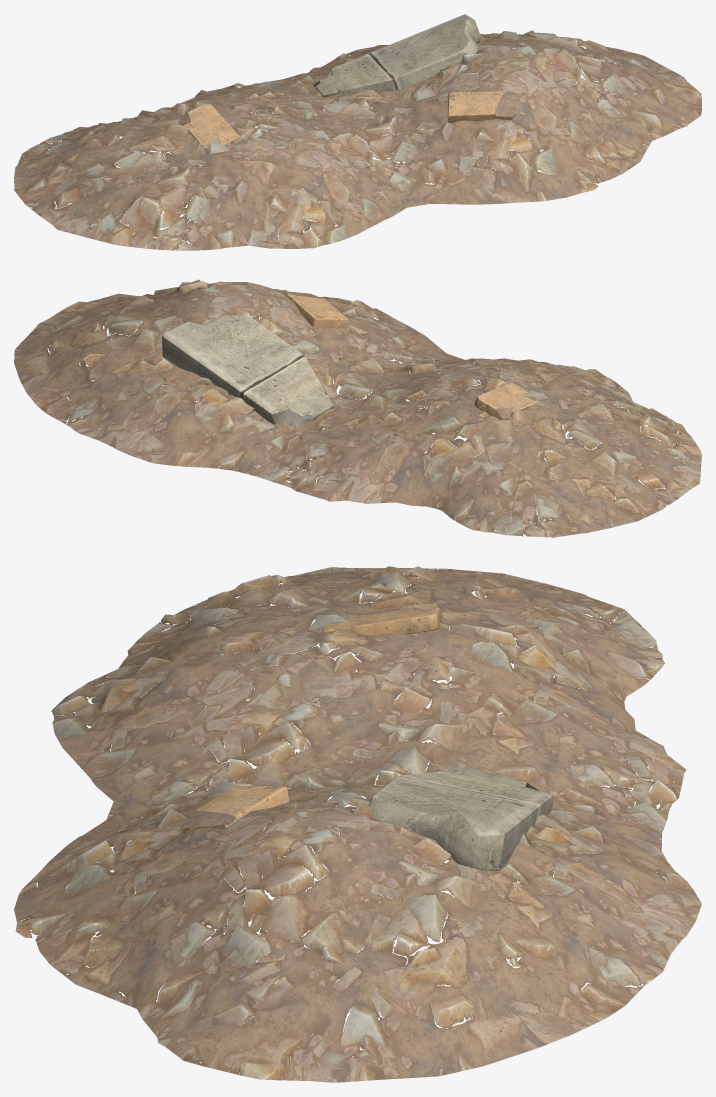
3 renders of one model, top to bottom at view 1: azimuth 30°, elevation 25°; view 2: azimuth 150°, elevation 25°; view 3: azimuth 270°, elevation 25°, orthographic. The views are drawn at different scales.
Visible parts, largest first — view 1: SM_Magic_Institute_Rubble_01v2_LOD0; view 2: SM_Magic_Institute_Rubble_01v2_LOD0; view 3: SM_Magic_Institute_Rubble_01v2_LOD0.
Part boxes in pixels (x1,y1,x2,y2): SM_Magic_Institute_Rubble_01v2_LOD0: (14,14,701,250); SM_Magic_Institute_Rubble_01v2_LOD0: (14,279,701,537); SM_Magic_Institute_Rubble_01v2_LOD0: (14,566,701,1082).
Size of the model in its own units: 10.14 by 1.13 by 5.72.
3 materials, 3 textured.
